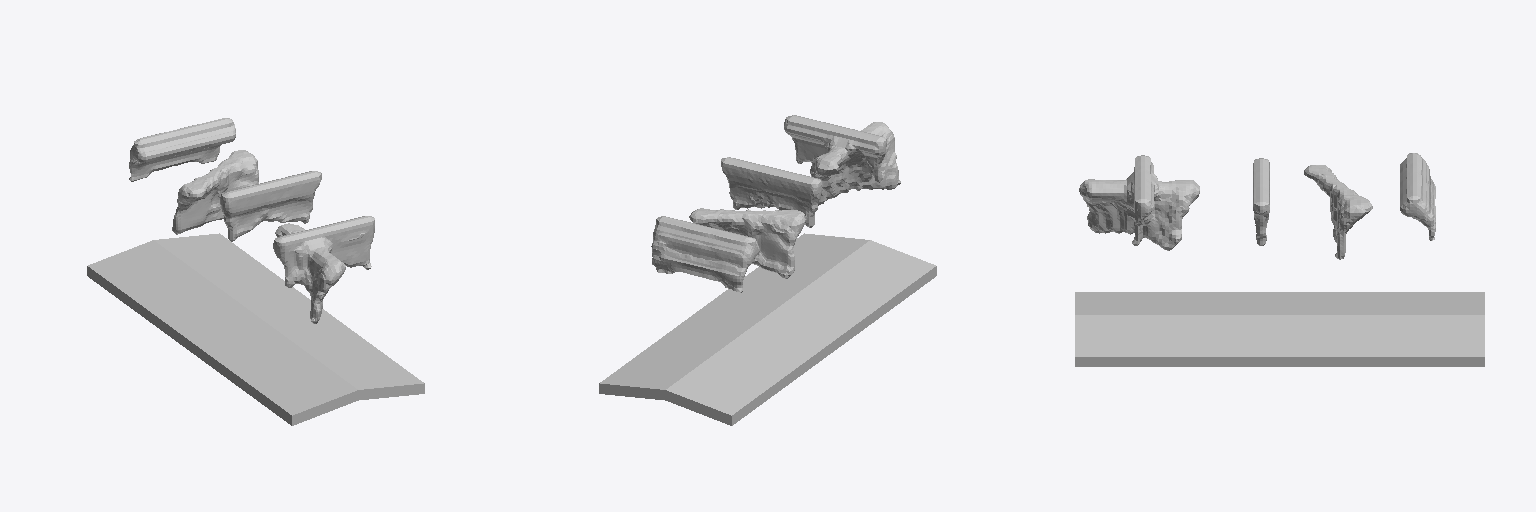
Rendered from Watersim_000011.obj.
3 renders of one model, left to right at view 1: azimuth 30°, elevation 25°; view 2: azimuth 150°, elevation 25°; view 3: azimuth 270°, elevation 25°, orthographic.
Visible parts, largest first — view 1: Straße_Cube.007, Domain_Cube.006; view 2: Straße_Cube.007, Domain_Cube.006; view 3: Straße_Cube.007, Domain_Cube.006.
Part boxes in pixels (x1,y1,x2,y2): Straße_Cube.007: (87,233,424,425); Domain_Cube.006: (129,118,374,323); Straße_Cube.007: (599,233,936,425); Domain_Cube.006: (651,115,900,292); Straße_Cube.007: (1075,292,1484,366); Domain_Cube.006: (1079,153,1435,259).
Size of the model in its own units: 2.26 by 2.58 by 6.06.